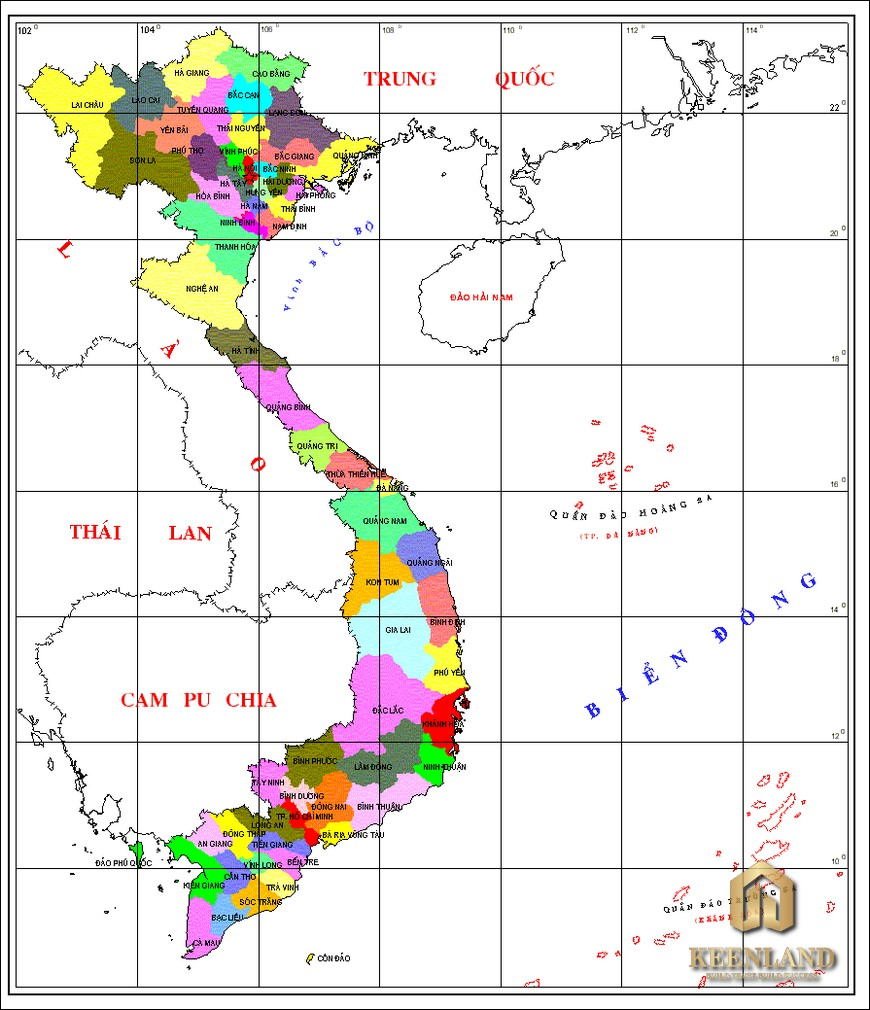Island: (545, 398, 715, 543)
